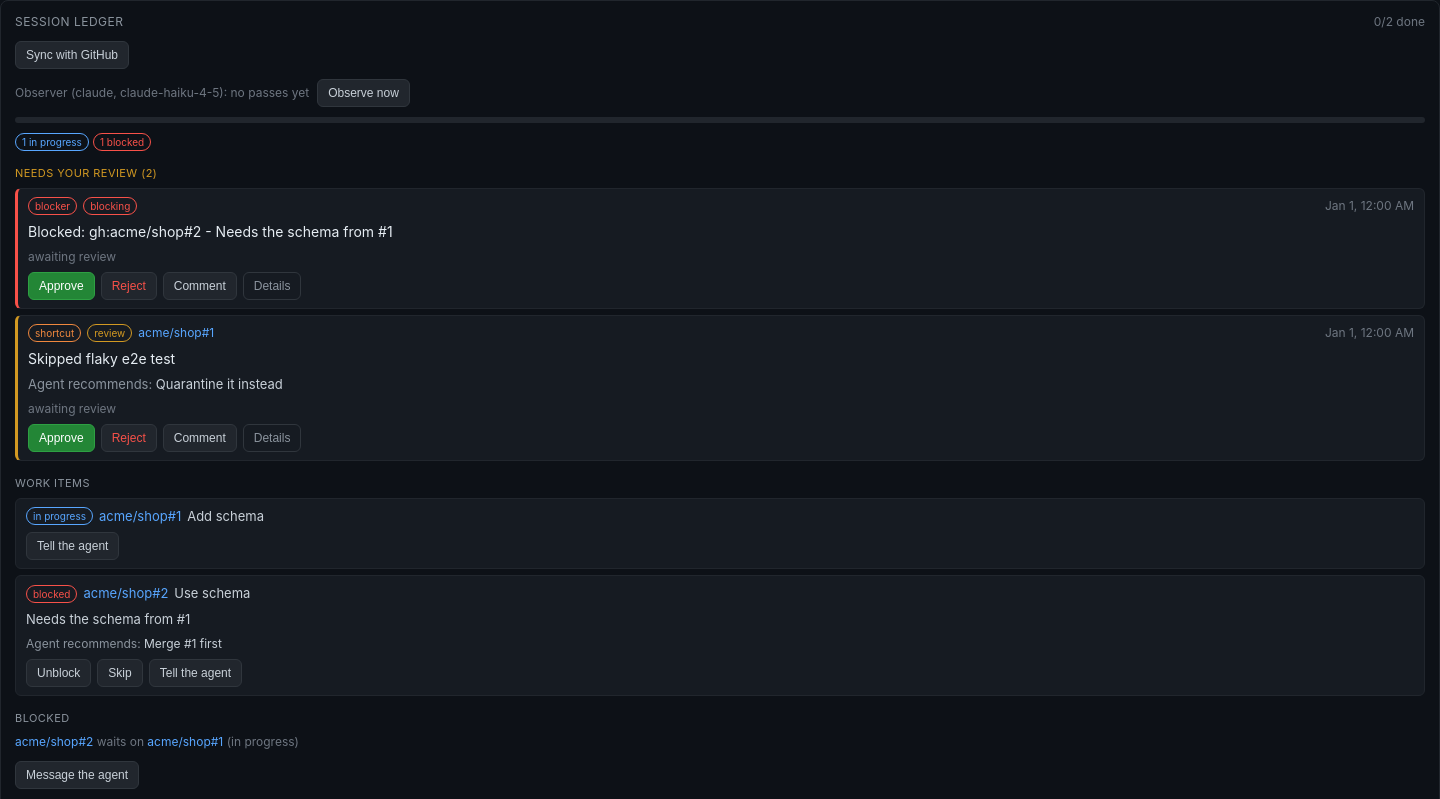
Test: LedgerPanel › runs the observer now and shows the queued message
This screenshot has width=1440, height=799.
What coordinates should you click on to do the following:
click the button "Observe now"
I would click on:
 (364, 93)
Its box is left=317, top=79, right=410, bottom=107.
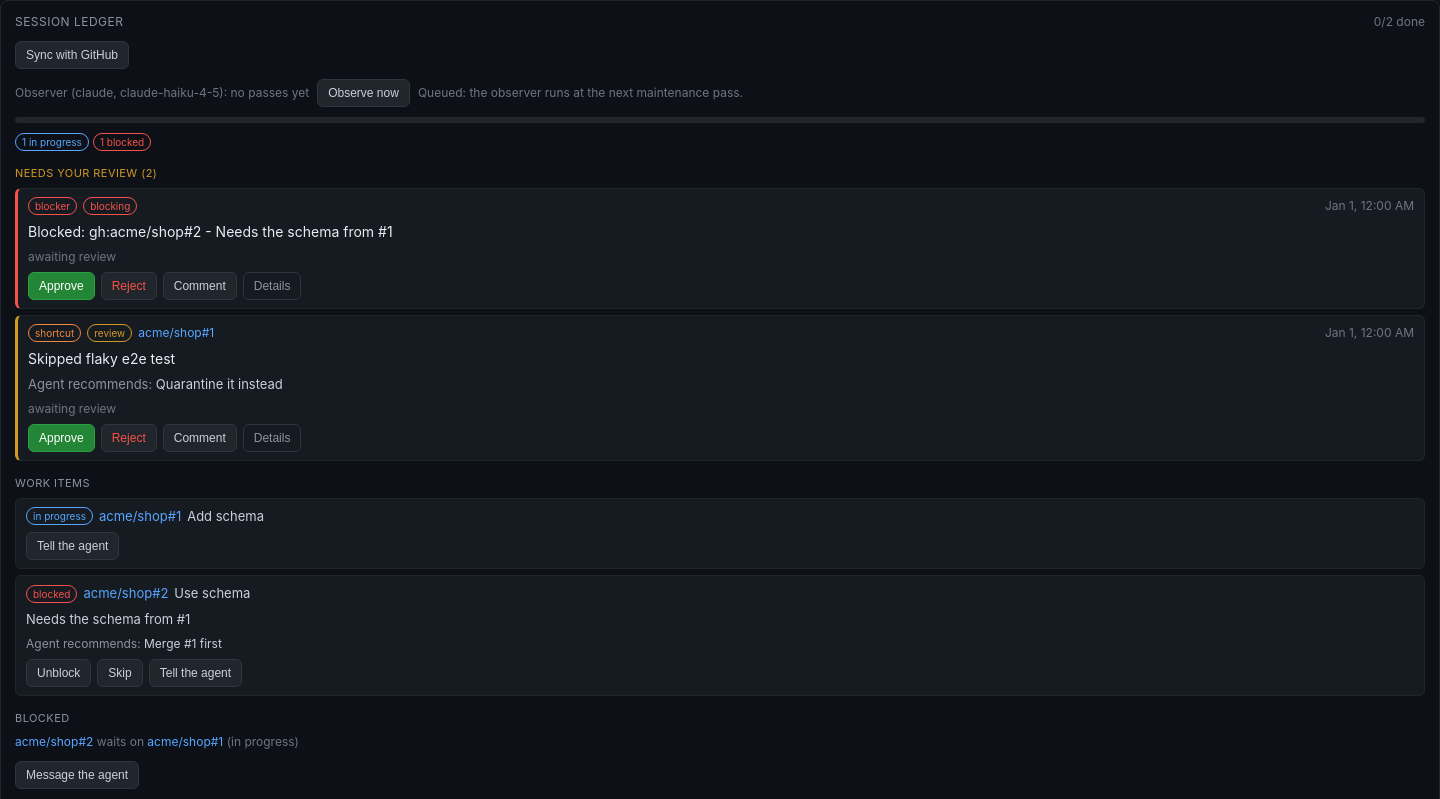
Expected: the text "Queued: the observer runs at the next maintenance pass." is shown, left=418, top=84, right=743, bottom=102
